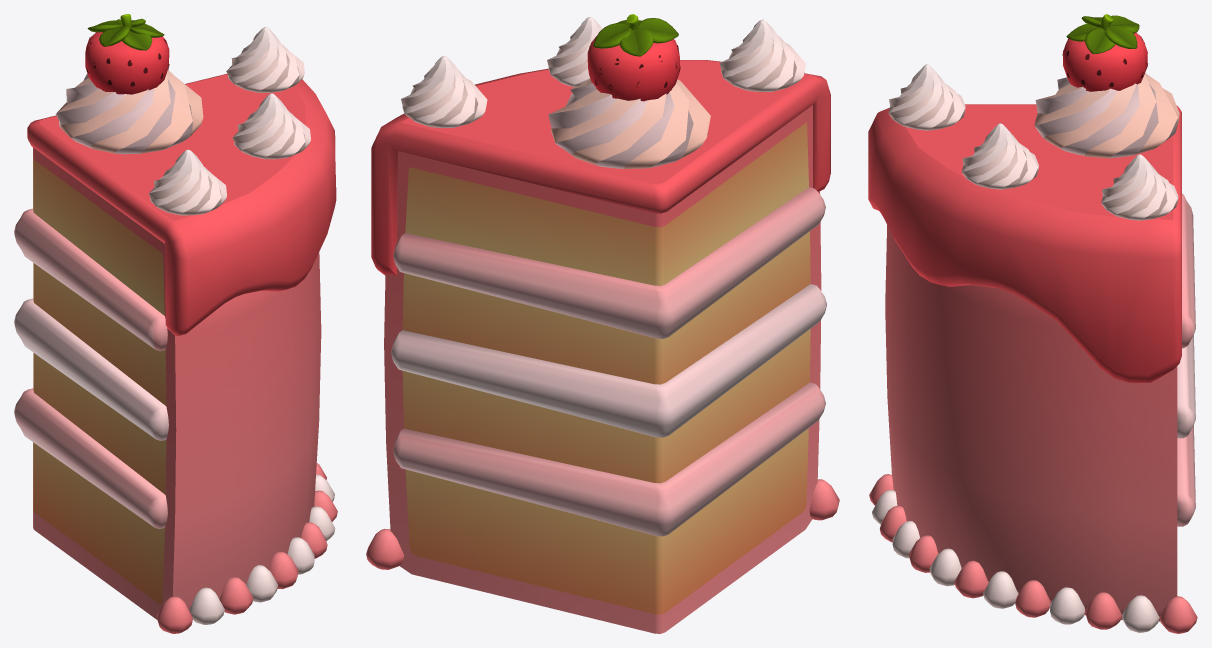
The model's file is Cake_Strawberry_Slice_V2_00.fbx.
3 views of the same model, side by side, from view 1: azimuth 30°, elevation 25°; view 2: azimuth 150°, elevation 25°; view 3: azimuth 270°, elevation 25° (orthographic). The views are drawn at different scales.
Parts seen in each view (by area): view 1: Cake_Strawberry_Slice_V2_00; view 2: Cake_Strawberry_Slice_V2_00; view 3: Cake_Strawberry_Slice_V2_00.
Boxes of the visible parts, box(x1,y1,x2,y2) form: Cake_Strawberry_Slice_V2_00: box(14, 14, 337, 633); Cake_Strawberry_Slice_V2_00: box(366, 14, 839, 633); Cake_Strawberry_Slice_V2_00: box(868, 14, 1197, 633).
Bounding box in the file's own units: 34.82 × 61.66 × 35.03.
